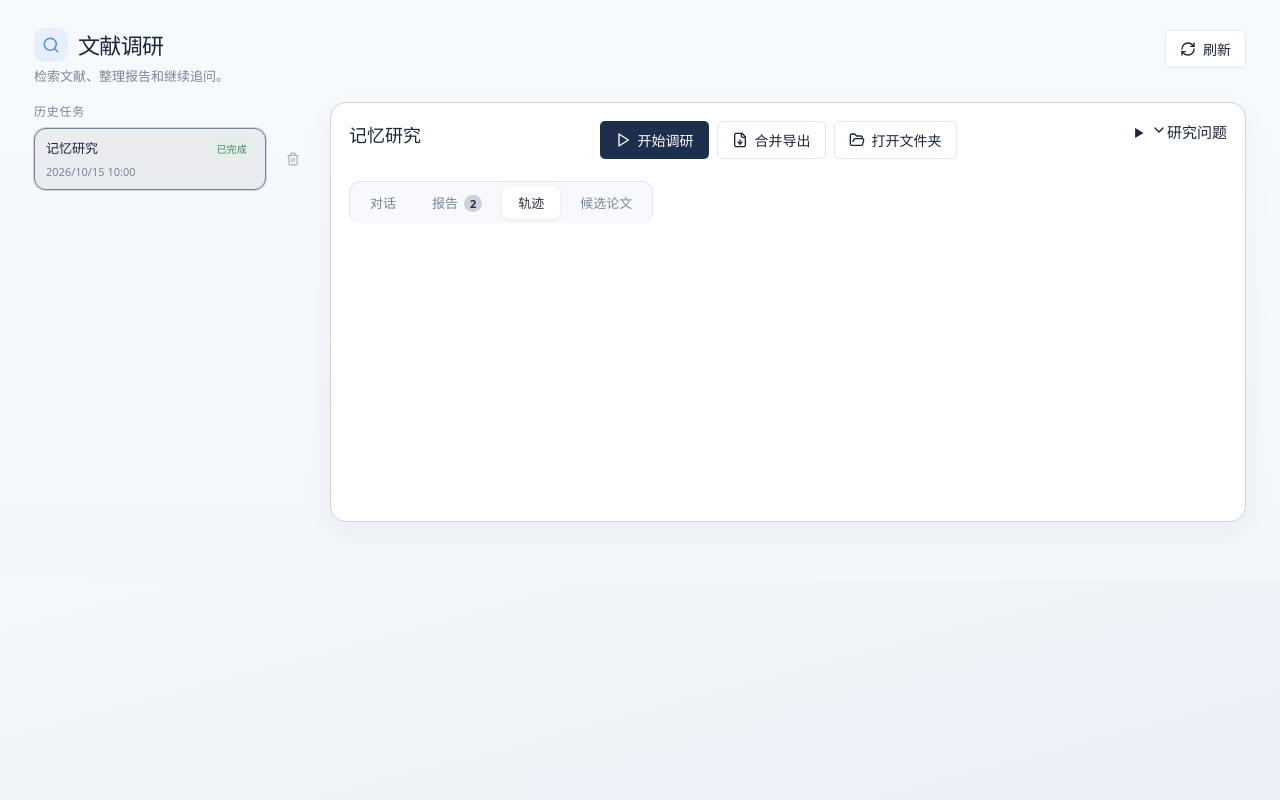
Test case: research export confirmation › shows the write error and allows a retry
The width and height of the screenshot is (1280, 800).
Click the button "合并导出" at (771, 140), box [716,121,826,159]
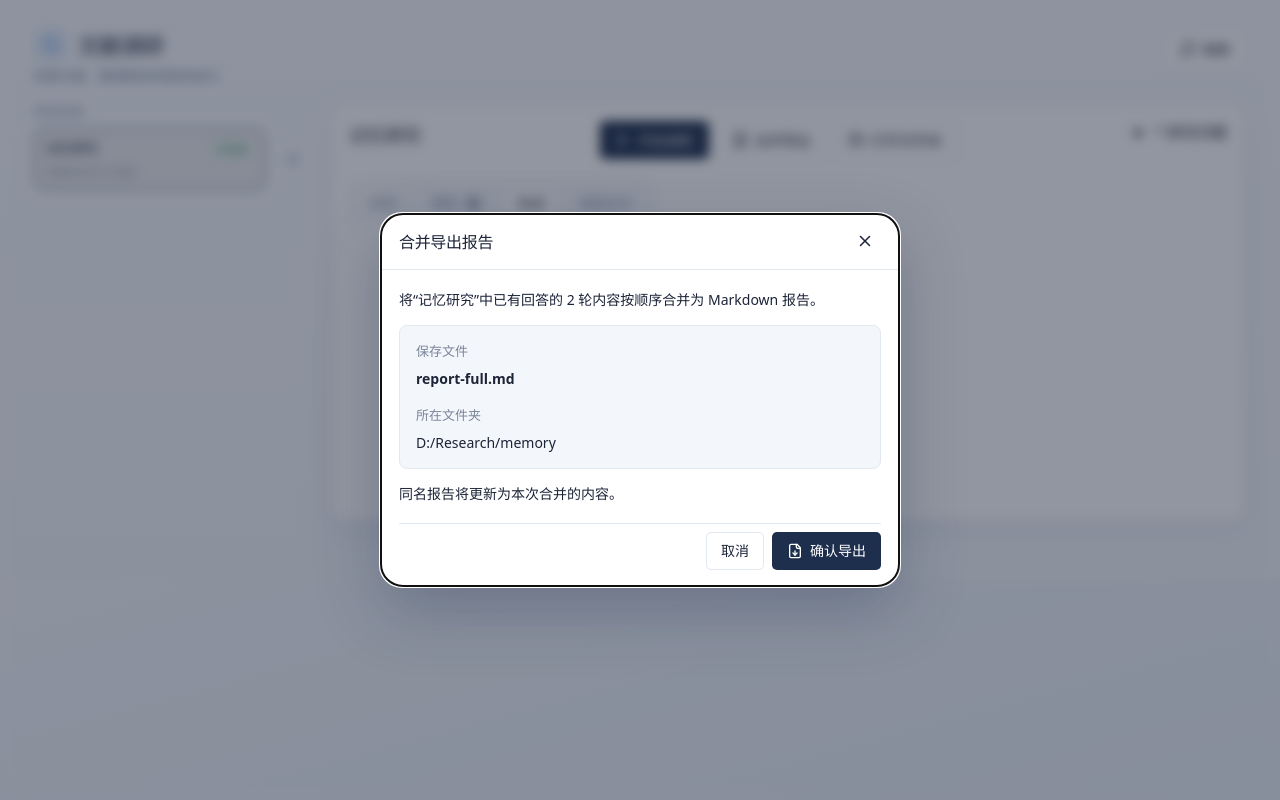
Click the button "确认导出" at (826, 551), box [772,532,881,570]
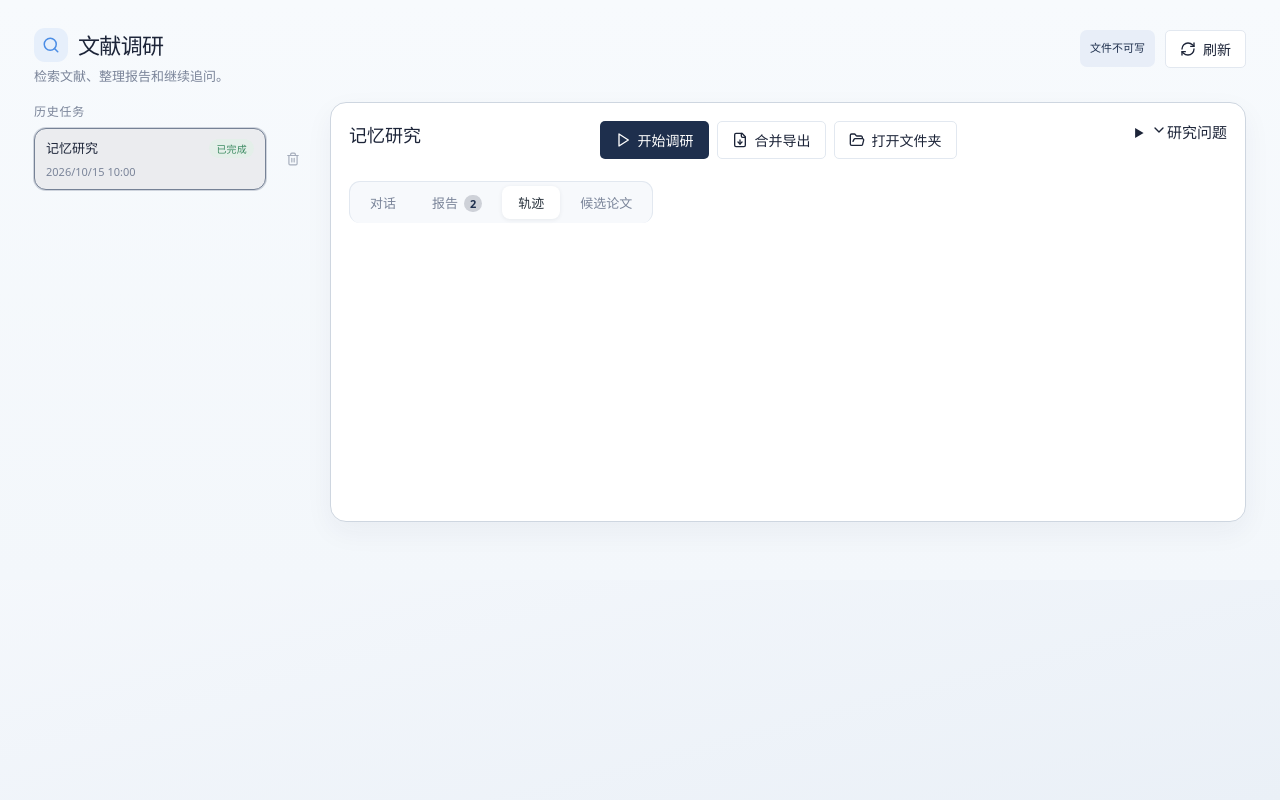
Expected: the button "合并导出" is enabled, [716,121,826,159]
Expected: the text "文件不可写" is shown, [1080,30,1155,66]
